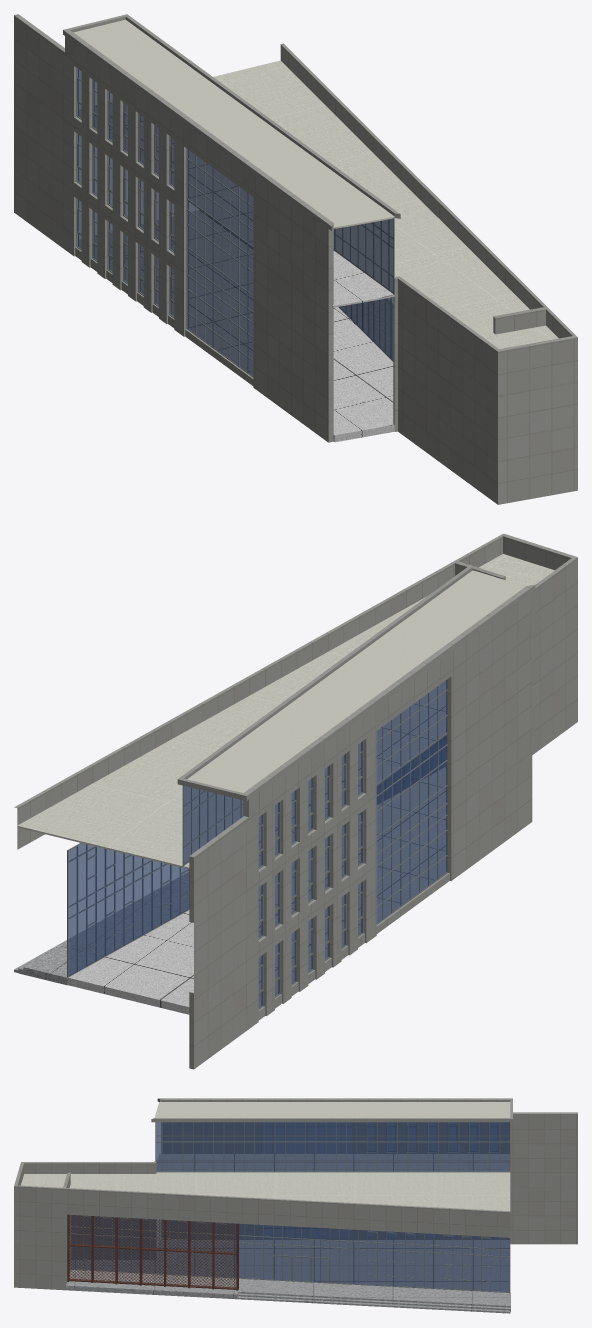
Rendered from zhong.glb.
3 renders of one model, top to bottom at view 1: azimuth 30°, elevation 25°; view 2: azimuth 150°, elevation 25°; view 3: azimuth 270°, elevation 25°, orthographic. The views are drawn at different scales.
Visible parts, largest first — view 1: zhong1, zhong2, zhongding; view 2: zhong1, zhong2, zhongding; view 3: zhong1, zhong2, zhongding.
Part boxes in pixels (box(x1,y1,x2,y2)): zhong1: box(14, 76, 577, 504); zhong2: box(14, 14, 576, 348); zhongding: box(63, 14, 400, 230); zhong1: box(14, 533, 577, 1069); zhong2: box(14, 534, 554, 922); zhongding: box(177, 564, 535, 800); zhong1: box(14, 1154, 577, 1313); zhong2: box(15, 1098, 577, 1223); zhongding: box(151, 1098, 512, 1122).
Bounding box in the file's own units: 37.35 × 35.69 × 126.
8 materials, 6 textured.
